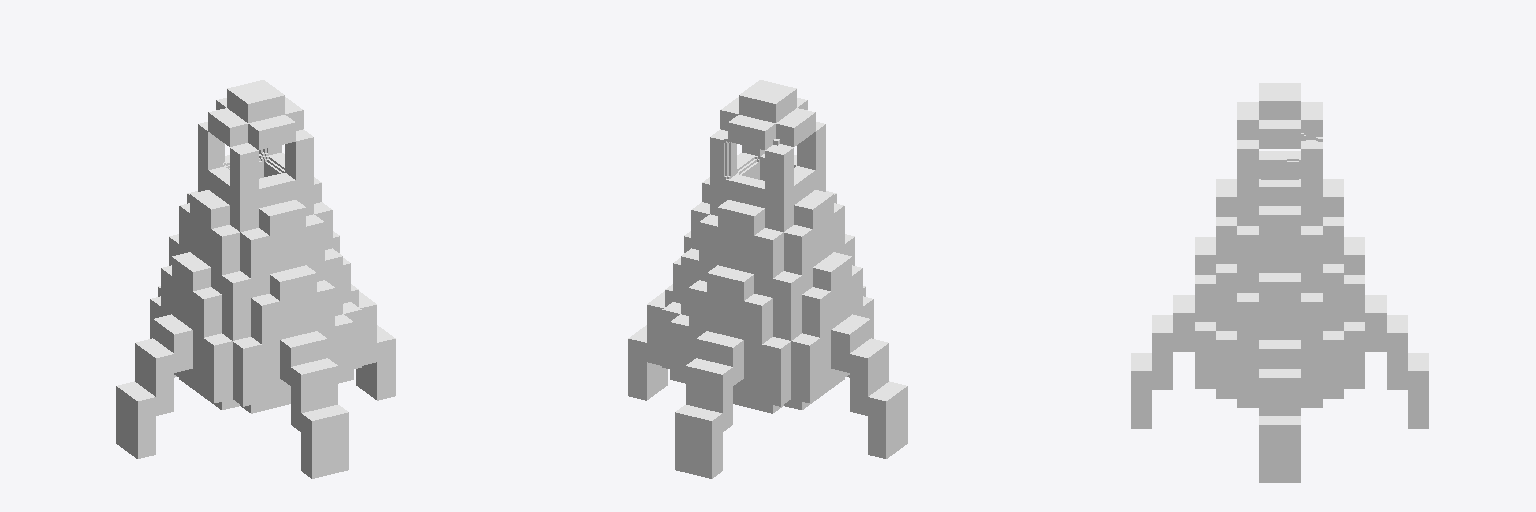
Rendered from shatle1.obj.
The picture shows the model from 3 angles: view 1: azimuth 30°, elevation 25°; view 2: azimuth 150°, elevation 25°; view 3: azimuth 270°, elevation 25°; orthographic projection.
Visible parts, largest first — view 1: object 1; view 2: object 1; view 3: object 1.
Part boxes in pixels (bbox=[...]): object 1: bbox=[116, 80, 395, 478]; object 1: bbox=[628, 80, 907, 478]; object 1: bbox=[1131, 83, 1428, 482].
Size of the model in its own units: 12.6 by 15.3 by 12.6.